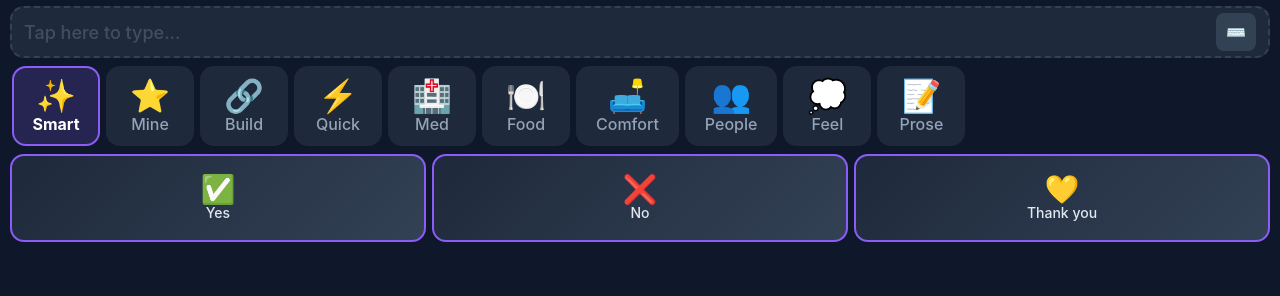
it: TalkScreen integration › enters edit mode when speech bar is clicked
The width and height of the screenshot is (1280, 296).
Click the field with placeholder "Tap here to type...". click: [616, 32]
box: [24,18,1208,46]
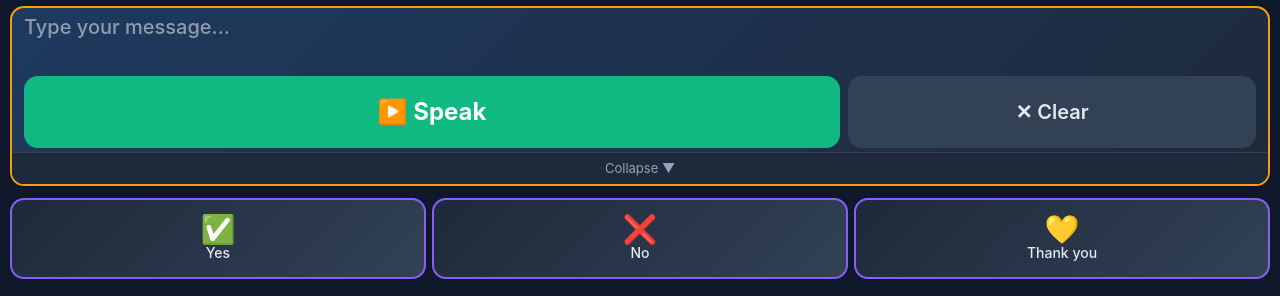
Check: the text box with placeholder "Type your message..." is shown, box [24,14,1256,66]
